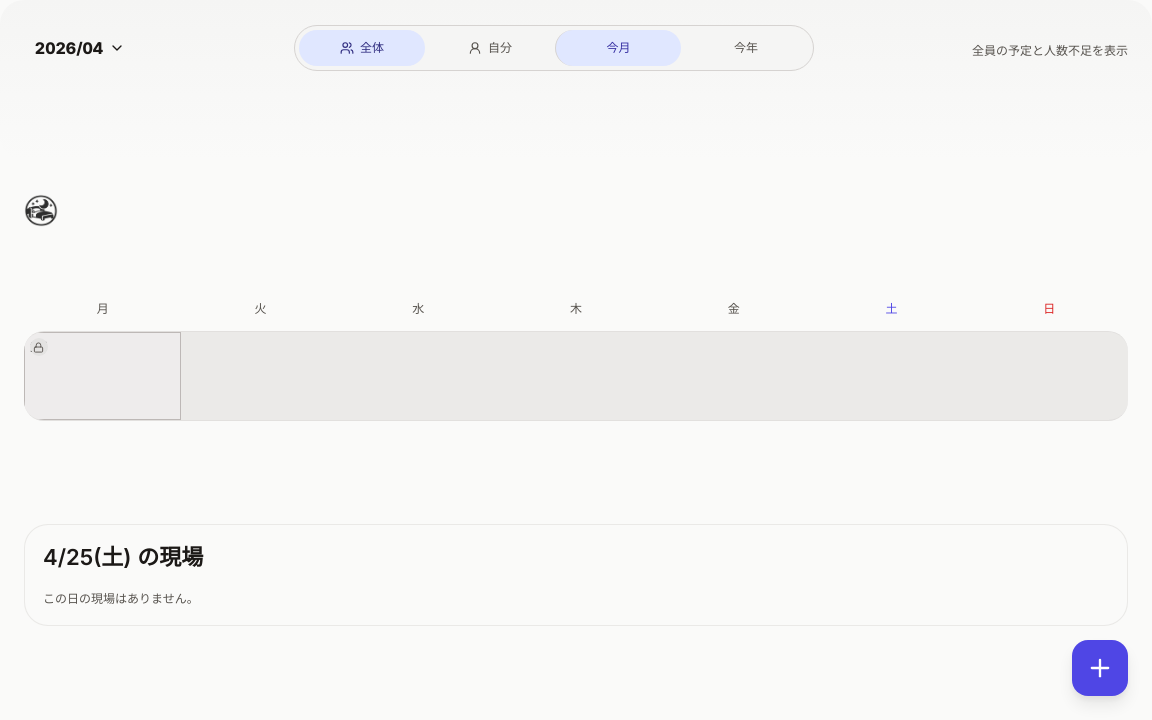
Test: Calendar page › shows a new-site action when opening the calendar FAB menu
The width and height of the screenshot is (1152, 720).
Click the button named "追加メニューを開く": (1100, 668) left=1072, top=640, right=1128, bottom=696
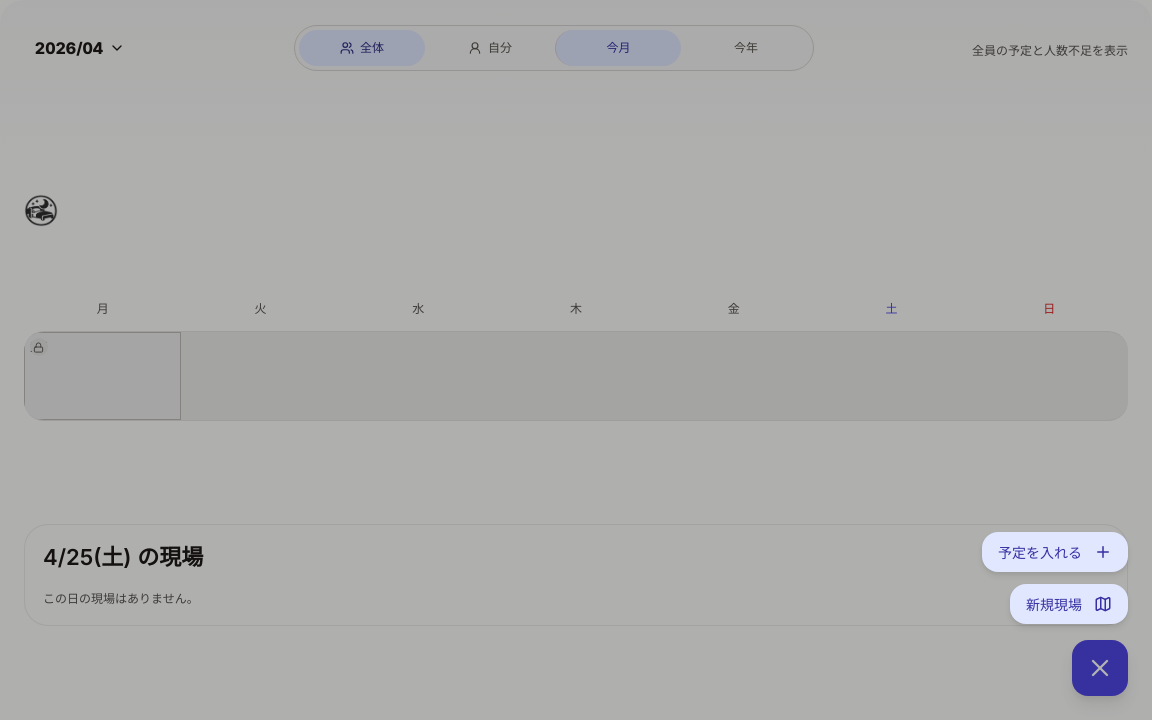
Expected: the button "新規現場" is shown, left=1010, top=584, right=1128, bottom=624
